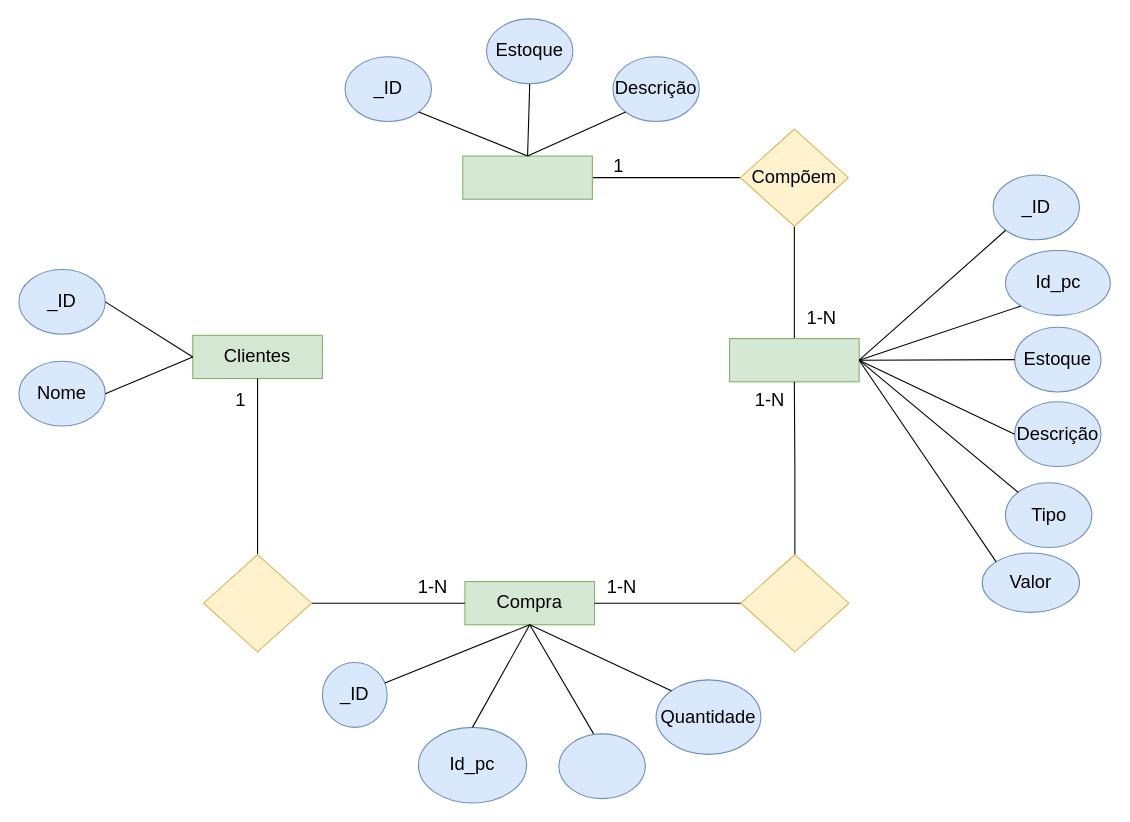
The diagram is 1130 pixels wide and 822 high, and some of its shapes have lost their labels. Here are the shapes that lost their labels. From the top down, the box of each, then its label:
(462, 155, 592, 199): Computadores
(728, 338, 859, 382): Componentes
(202, 554, 312, 652): Realizam
(740, 554, 849, 652): Participam
(558, 733, 645, 799): Id_cliente
